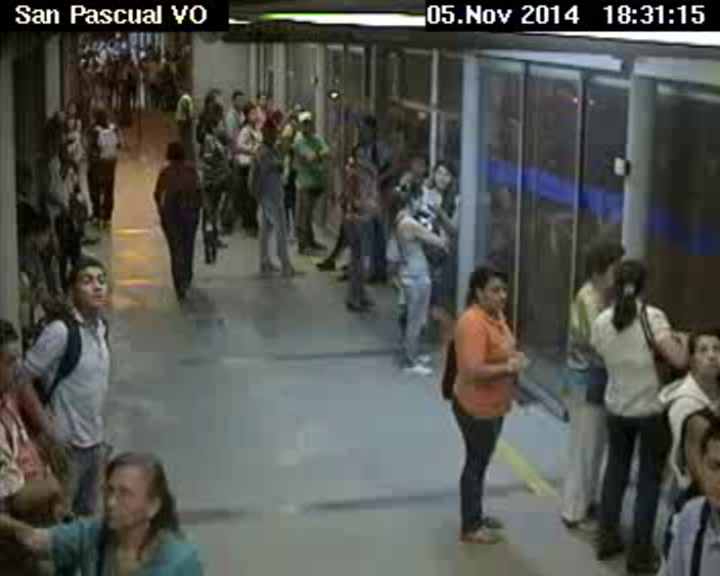person: (93, 447, 172, 541), (572, 238, 629, 297), (465, 261, 520, 317), (1, 314, 37, 399), (63, 251, 110, 315), (693, 414, 720, 516), (683, 326, 720, 387), (396, 177, 427, 218), (613, 261, 640, 305), (433, 153, 453, 193), (160, 140, 189, 166), (357, 113, 378, 143), (202, 111, 227, 134), (350, 141, 372, 165), (258, 119, 278, 145), (90, 104, 108, 127), (294, 111, 313, 132), (241, 101, 256, 126), (203, 88, 224, 103), (230, 89, 246, 108), (62, 98, 79, 114), (254, 91, 267, 109), (177, 82, 188, 95)
